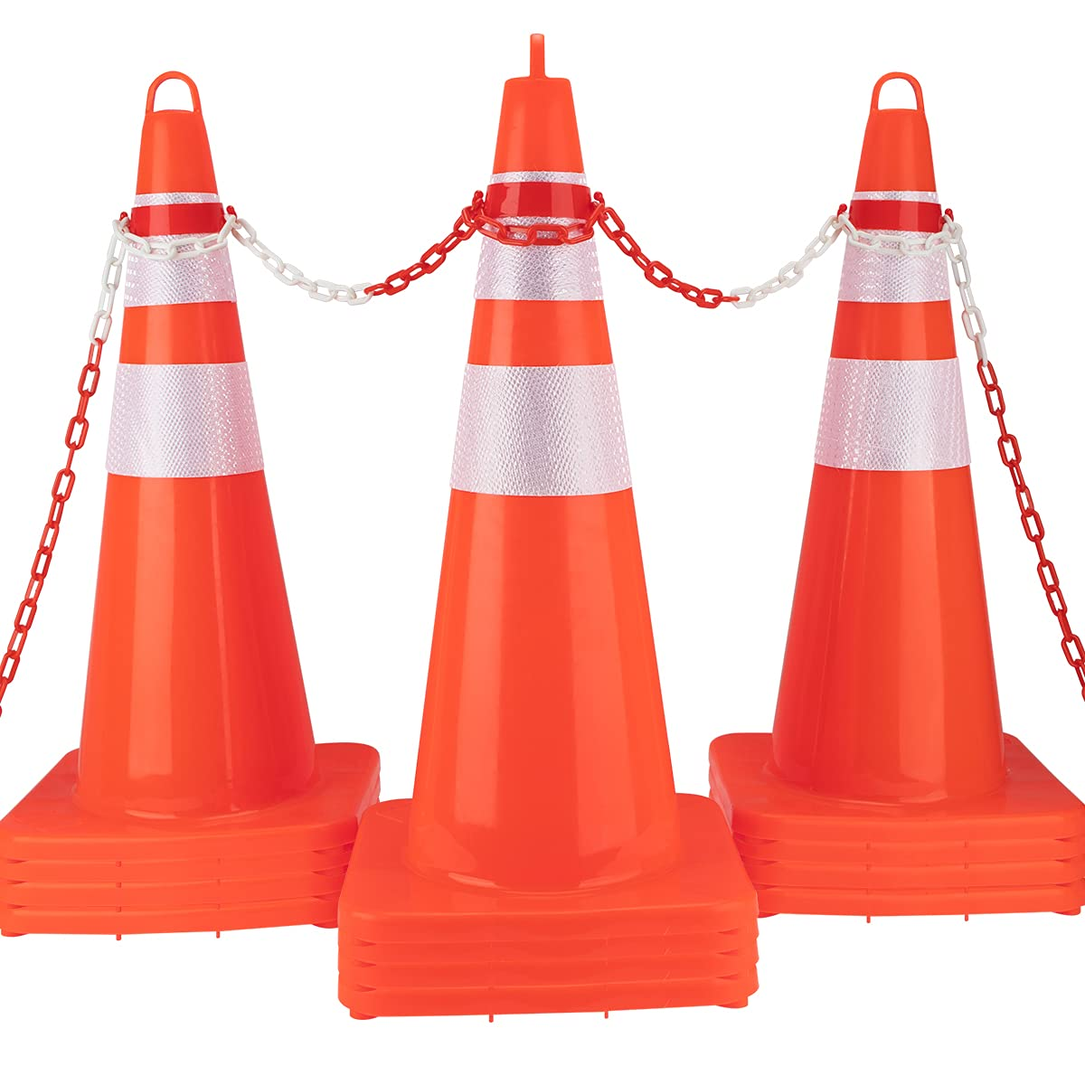Road_cone: (339, 24, 760, 921), (22, 70, 376, 895), (739, 61, 1085, 881)
